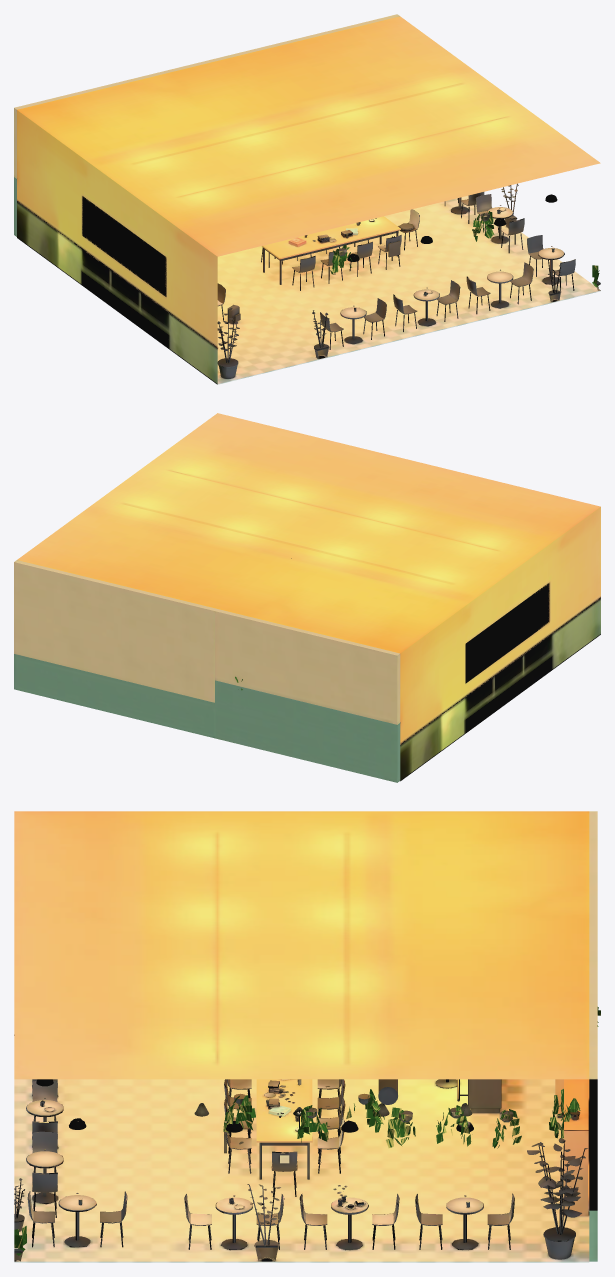
File: offbeat_storefront.glb
3 views of the same model, one above another, from view 1: azimuth 30°, elevation 25°; view 2: azimuth 150°, elevation 25°; view 3: azimuth 270°, elevation 25° (orthographic). The views are drawn at different scales.
Visible parts, largest first — view 1: offbeat_storefront, offbeat_storefront_leaf; view 2: offbeat_storefront; view 3: offbeat_storefront, offbeat_storefront_leaf.
Boxes of the visible parts, x1,y1,x2,y2 form: offbeat_storefront: [14, 14, 600, 384]; offbeat_storefront_leaf: [330, 211, 599, 287]; offbeat_storefront: [14, 413, 600, 782]; offbeat_storefront: [14, 811, 597, 1262]; offbeat_storefront_leaf: [14, 1007, 600, 1255].
Bounding box in the file's own units: 10.73 × 3.42 × 9.92.
Materials: 2 (2 with a texture image).
